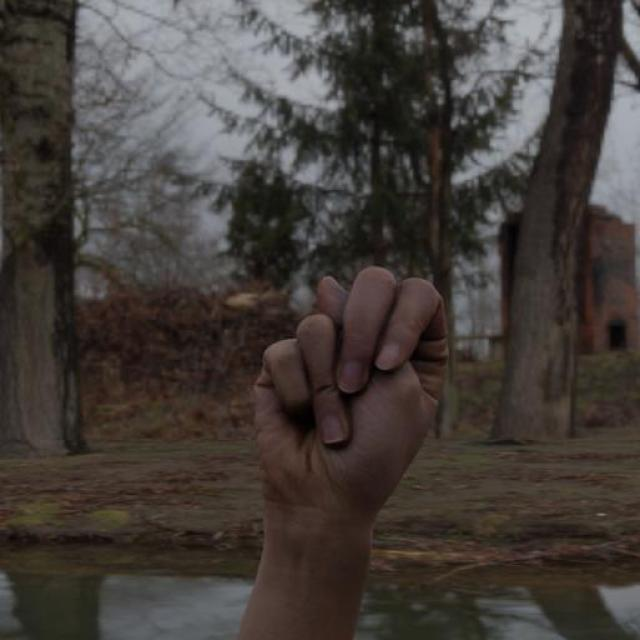N: (245, 262, 454, 519)
